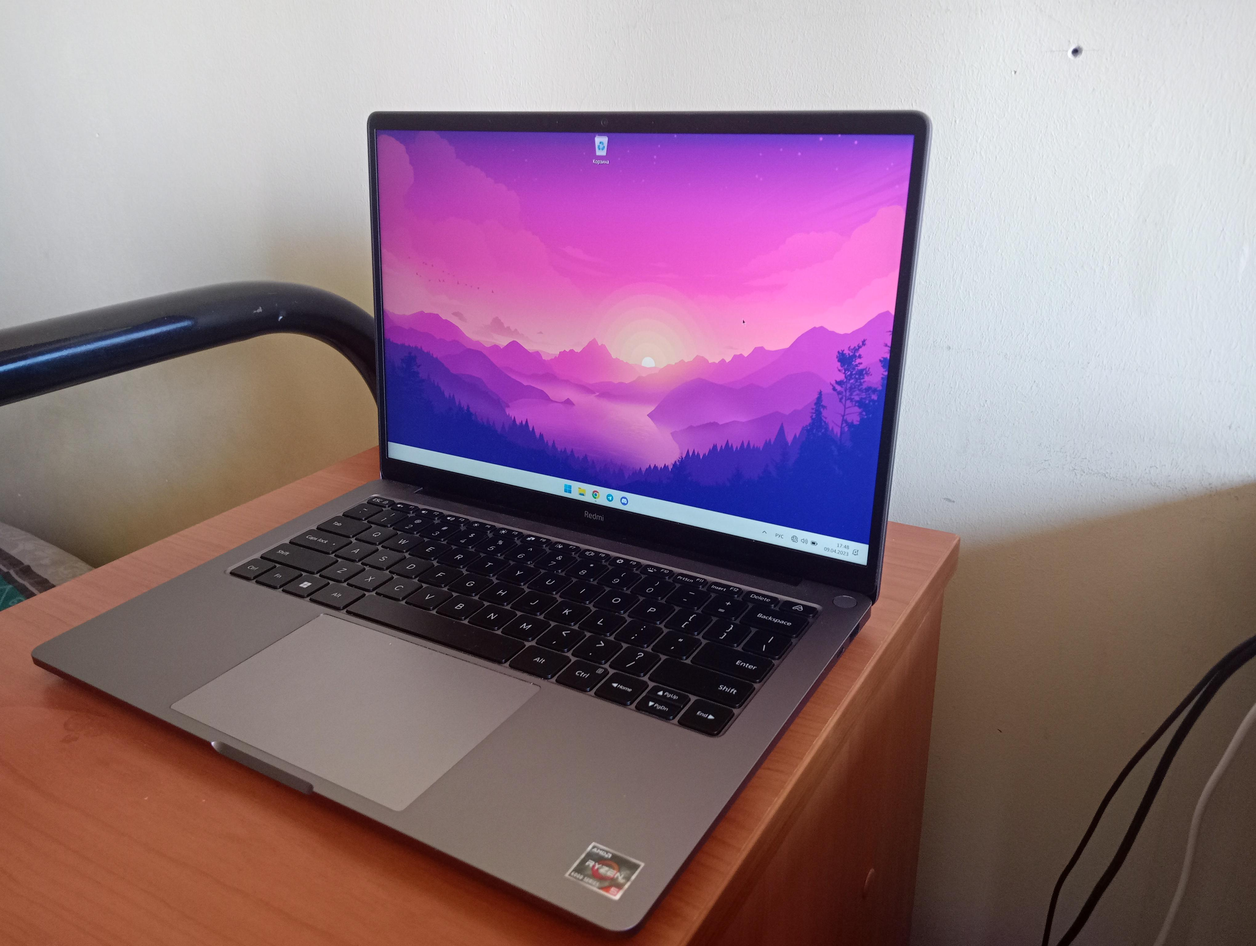monitor: (362, 100, 939, 608)
